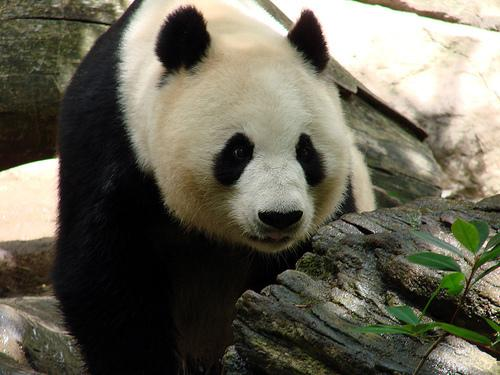panda: (53, 0, 373, 374)
